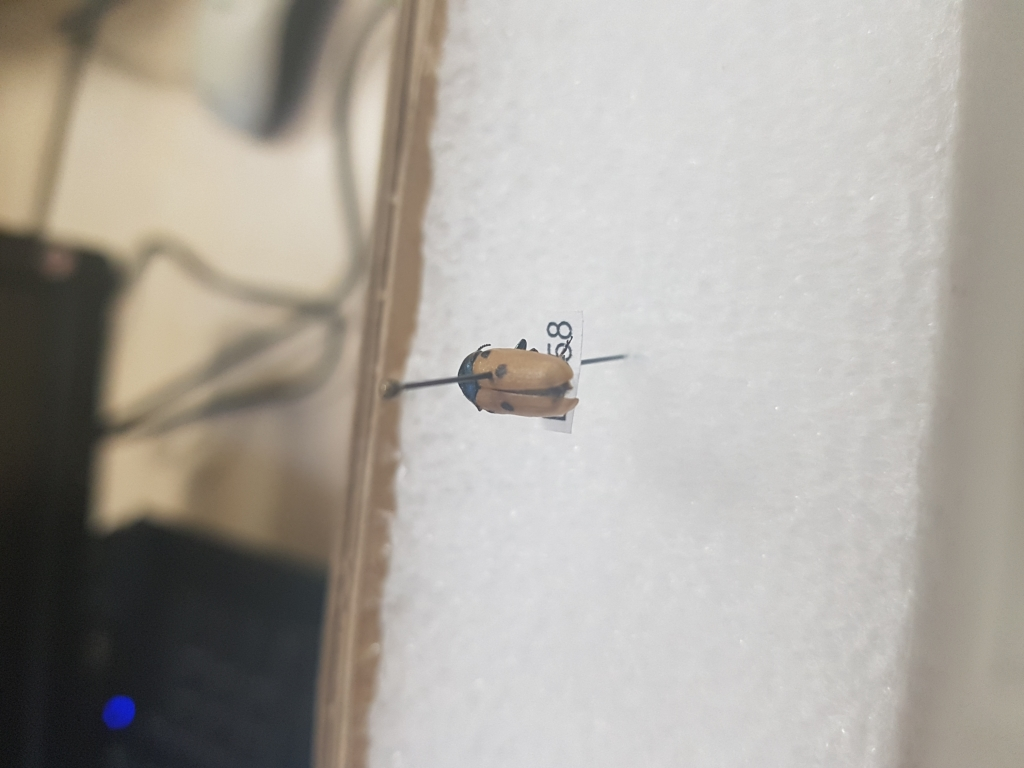Labidostomis_maculipennis: (452, 337, 581, 424)
